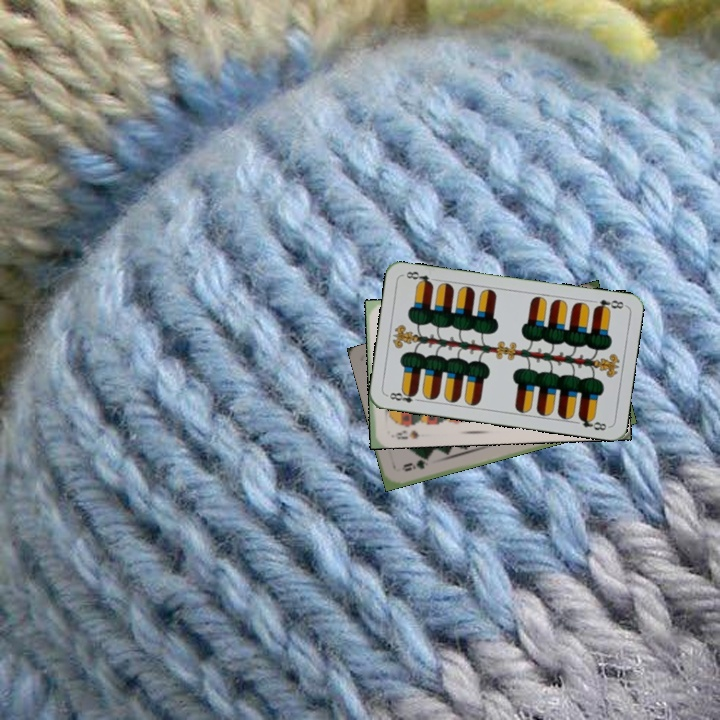E8: (383, 387, 424, 405), (590, 295, 627, 314)
G9: (398, 455, 431, 474)
S8: (387, 426, 422, 442)
